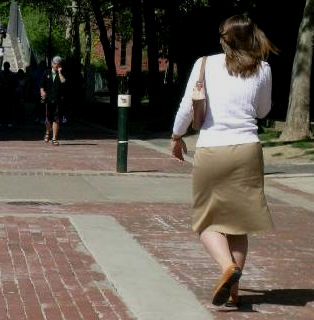pedestrian: (171, 16, 281, 307), (39, 56, 65, 146)
